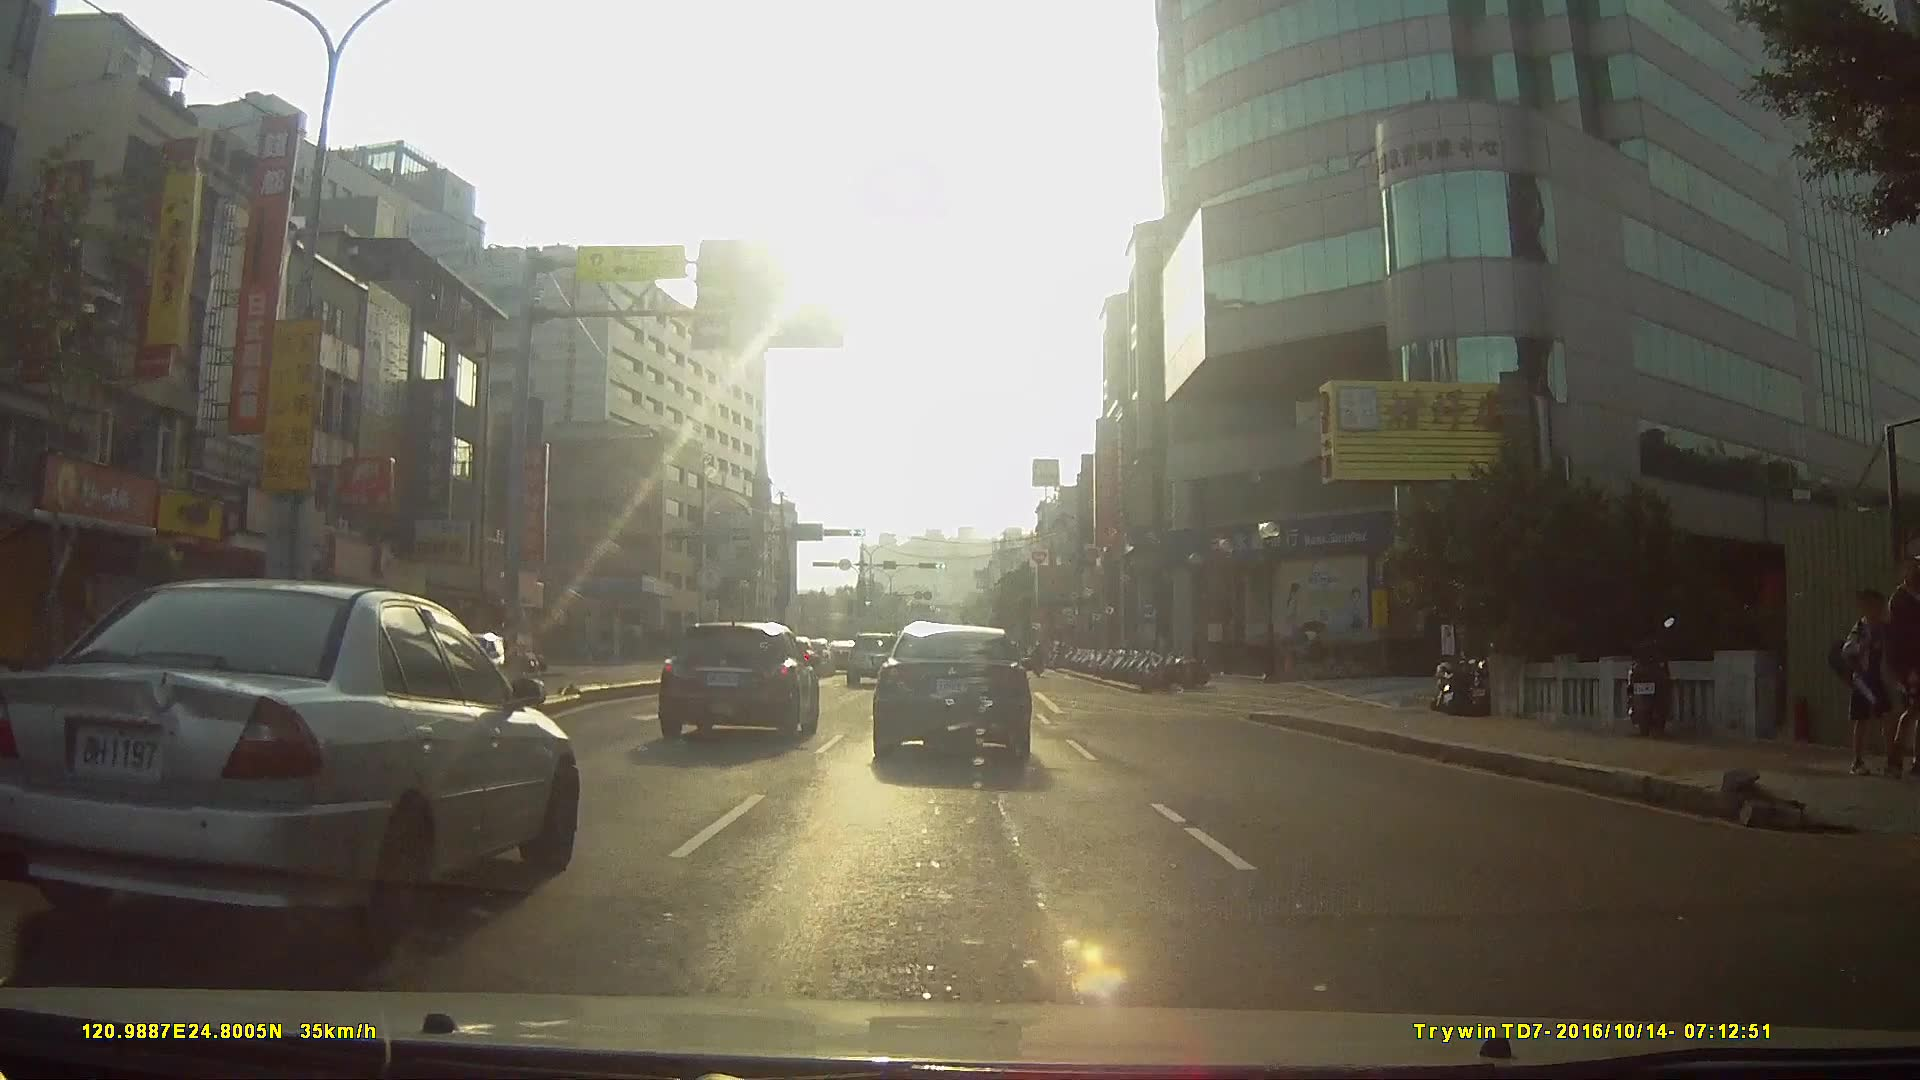pedestrian: (1829, 586, 1902, 775), (1877, 571, 1920, 772)
vehicle: (0, 571, 577, 954), (871, 617, 1032, 764), (654, 611, 819, 738), (844, 626, 904, 684)
